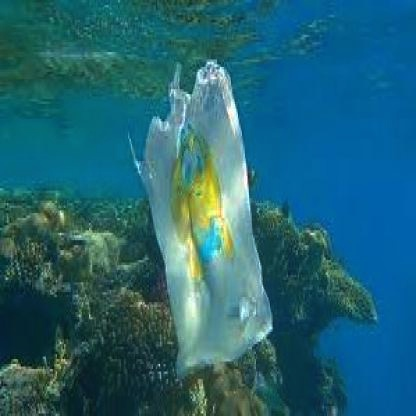pbag: (127, 57, 274, 379)
